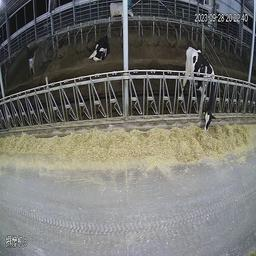cow: (182, 43, 222, 137), (90, 32, 114, 64), (113, 1, 140, 26)
